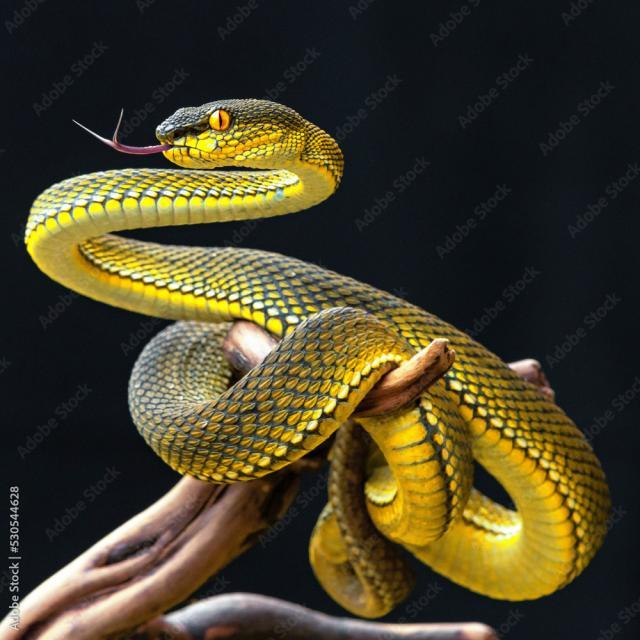Snake: (0, 76, 640, 636)
